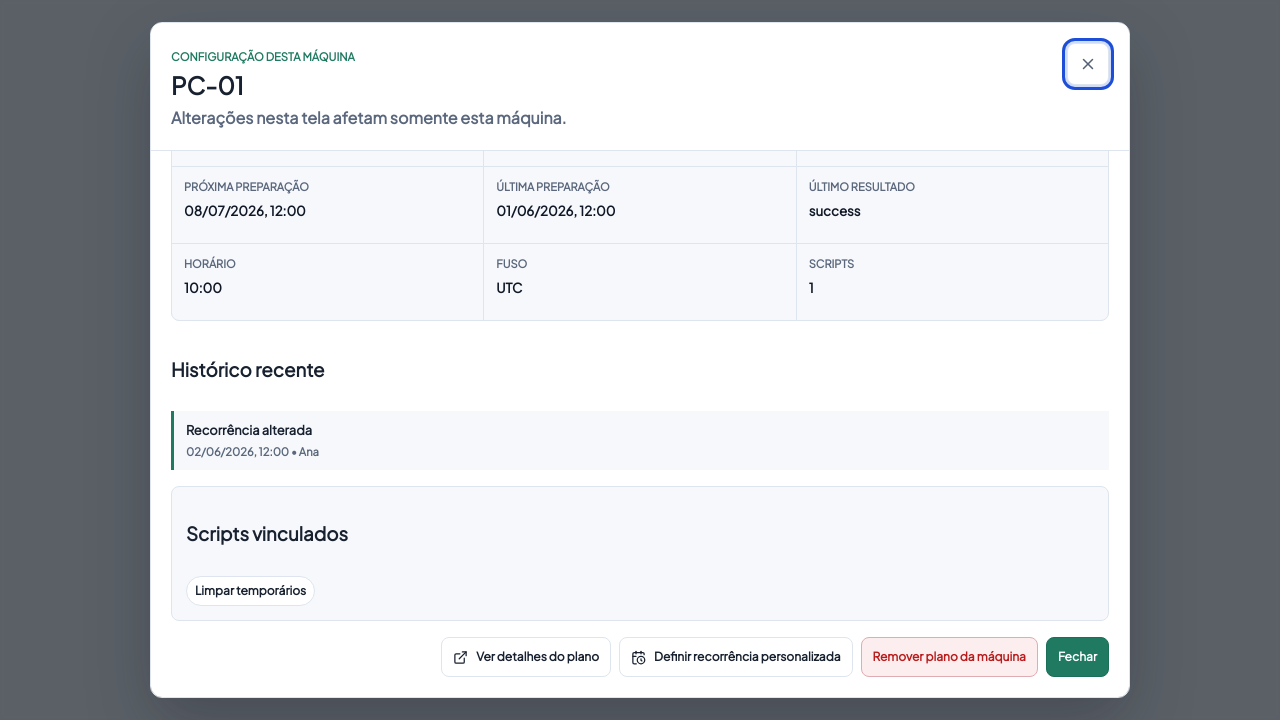
Test: AutomationMachineDetails - recorrência personalizada › pede confirmação ao cancelar com alterações pendentes
(page scrolled)
Expected: the text "Recorrência alterada" is shown, 186,422 -> 312,438
Click the button "Definir recorrência personalizada" at (736,657), box 619,637 -> 853,677
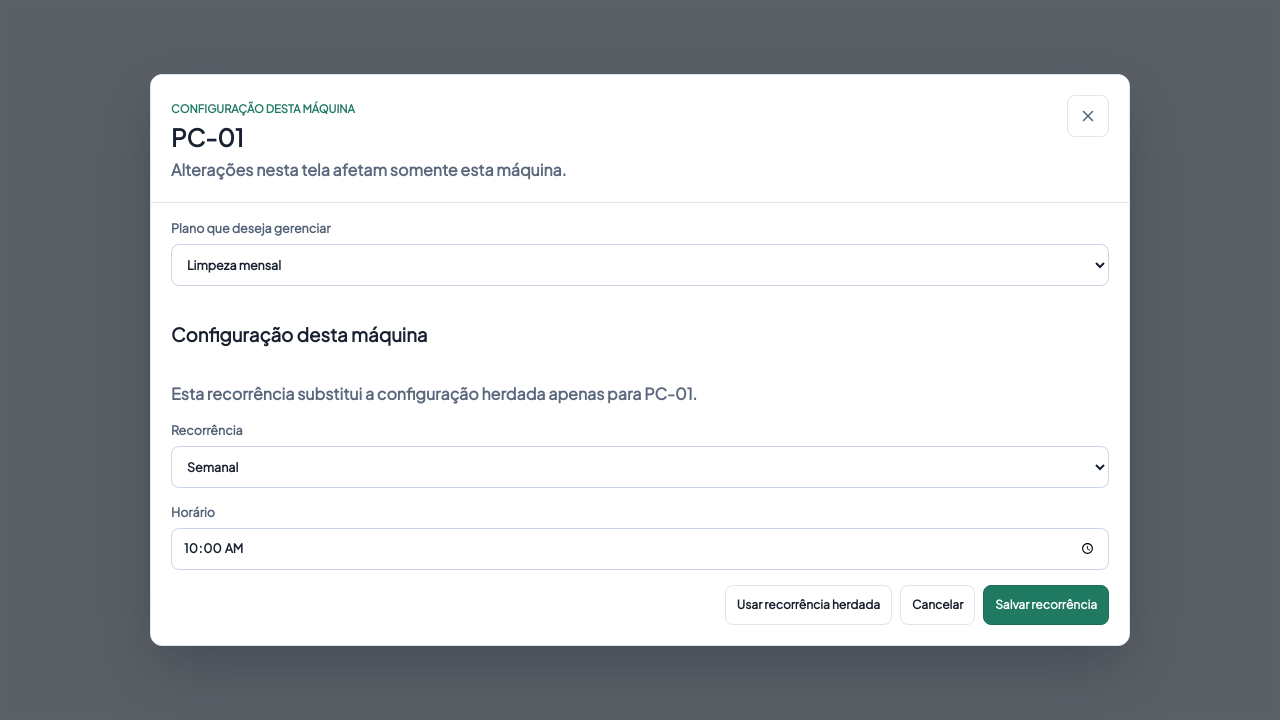
Replace the text in the time field labelled "Horário" with "23:00" at (640,549), box 171,528 -> 1109,570
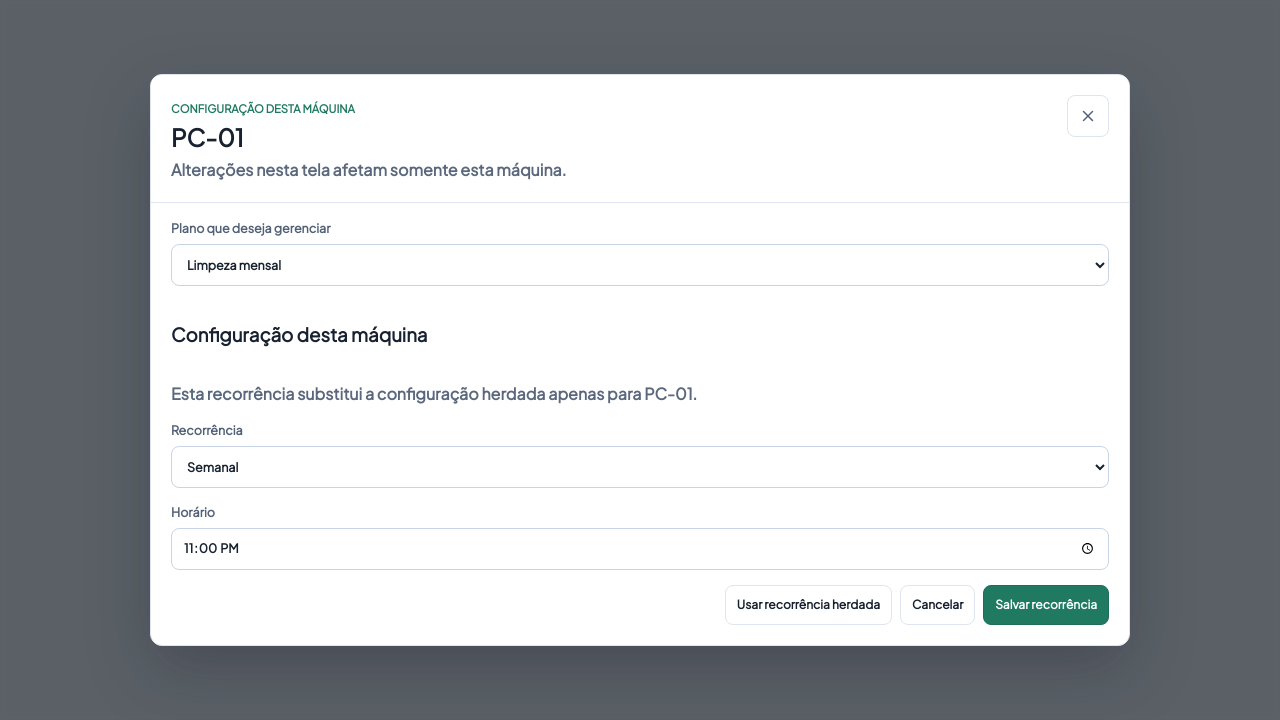
Click the button "Cancelar" at (938,605), box 900,585 -> 975,625
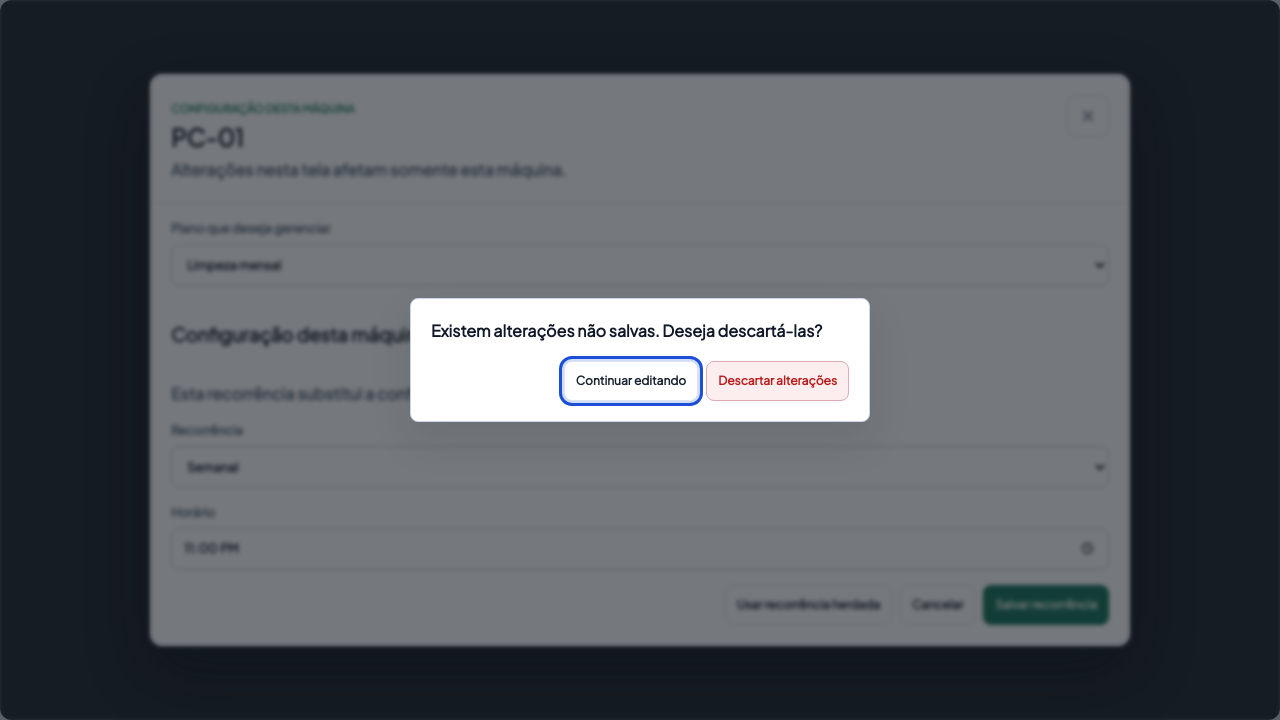
Expected: the dialog is shown
Click the button "Descartar alterações" at (778,381), box 706,361 -> 849,401
(page scrolled)
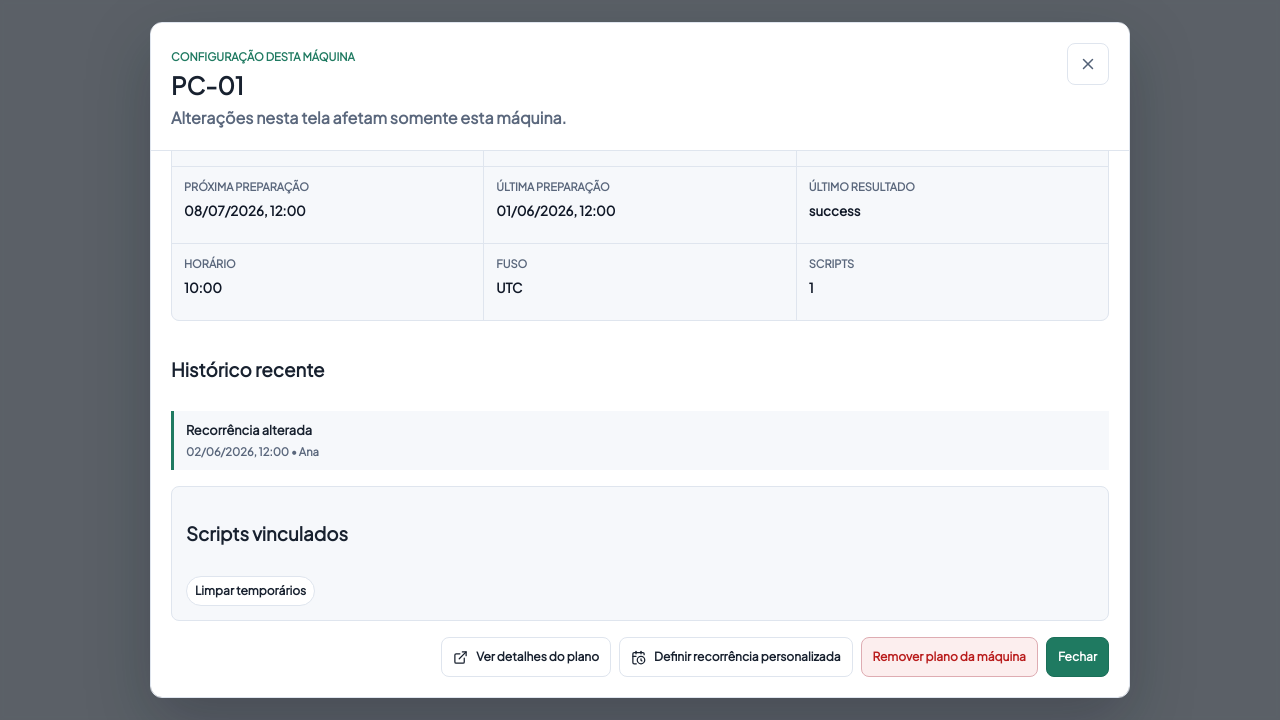
Expected: the button "Salvar recorrência" is gone
Expected: the button "Definir recorrência personalizada" is shown, 619,637 -> 853,677
